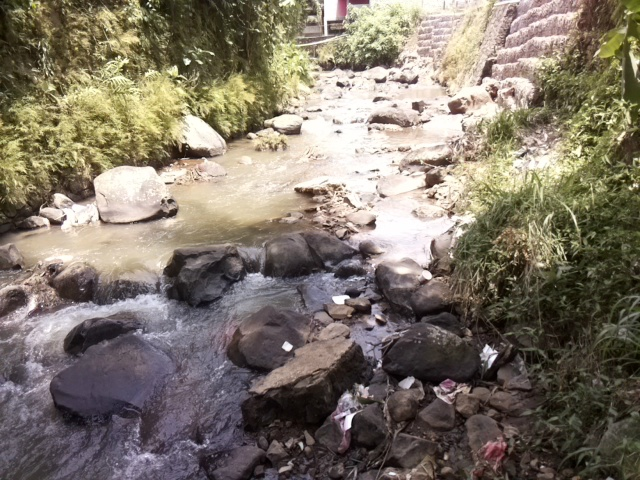Sampah_Plastik: (431, 377, 472, 404), (479, 435, 508, 473)
Sampah_Styrofoam: (334, 390, 357, 452), (477, 343, 497, 372), (332, 294, 353, 306), (282, 339, 294, 354)
